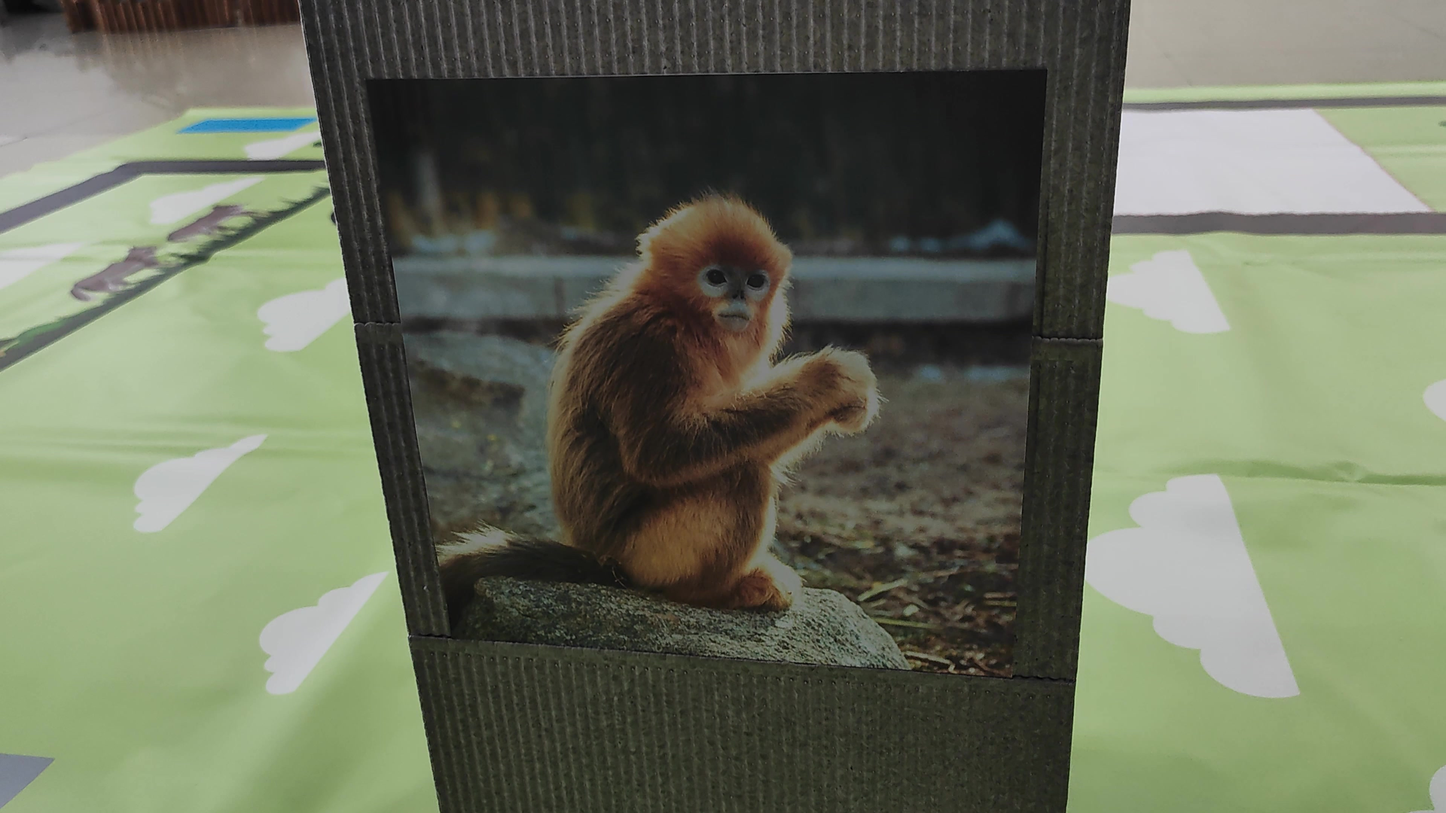monkey: (412, 177, 899, 642)
